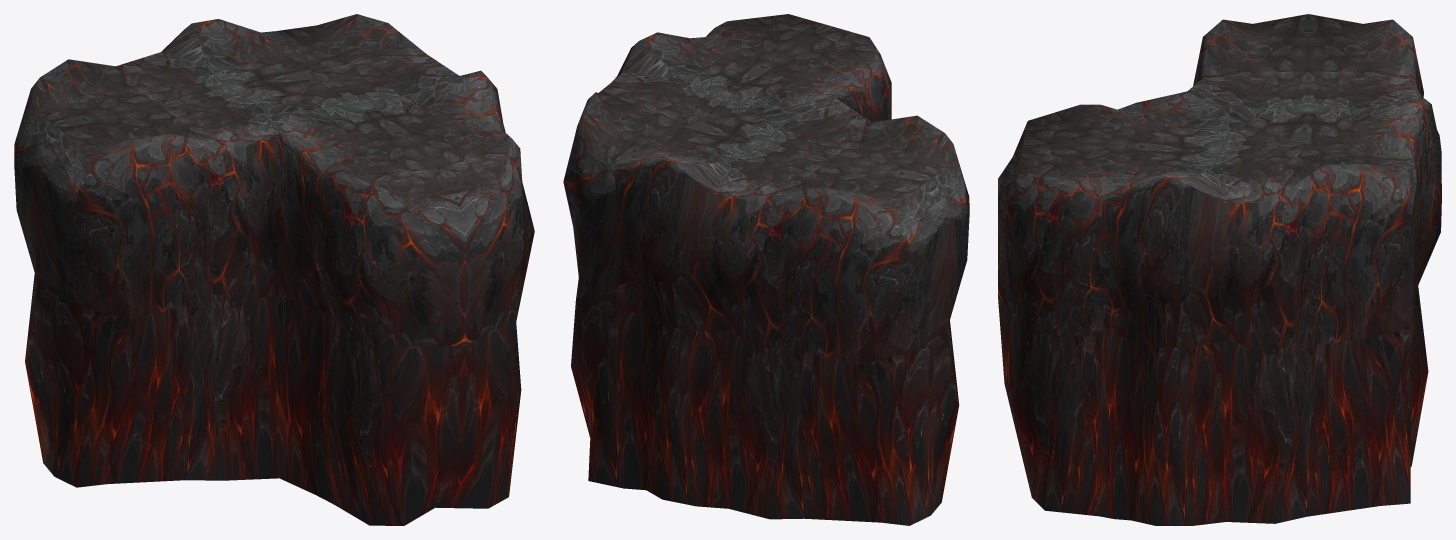
Rendered from 10504_LavaStone07.FBX.
3 views of the same model, side by side, from view 1: azimuth 30°, elevation 25°; view 2: azimuth 150°, elevation 25°; view 3: azimuth 270°, elevation 25° (orthographic). The views are drawn at different scales.
Visible parts, largest first — view 1: 10504_LavaStone07; view 2: 10504_LavaStone07; view 3: 10504_LavaStone07.
Part boxes in pixels (x1=…): 10504_LavaStone07: x1=14, y1=14, x2=534, y2=525; 10504_LavaStone07: x1=563, y1=14, x2=969, y2=525; 10504_LavaStone07: x1=998, y1=14, x2=1441, y2=525.
Size of the model in its own units: 1348 by 1179 by 1322.
